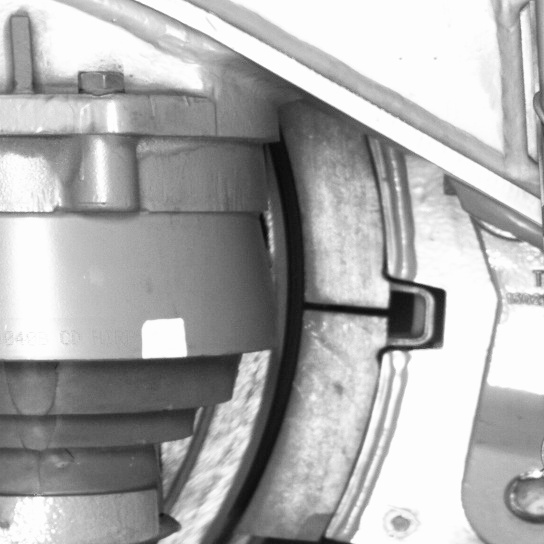KnifeSwitch: (198, 139, 411, 541)
